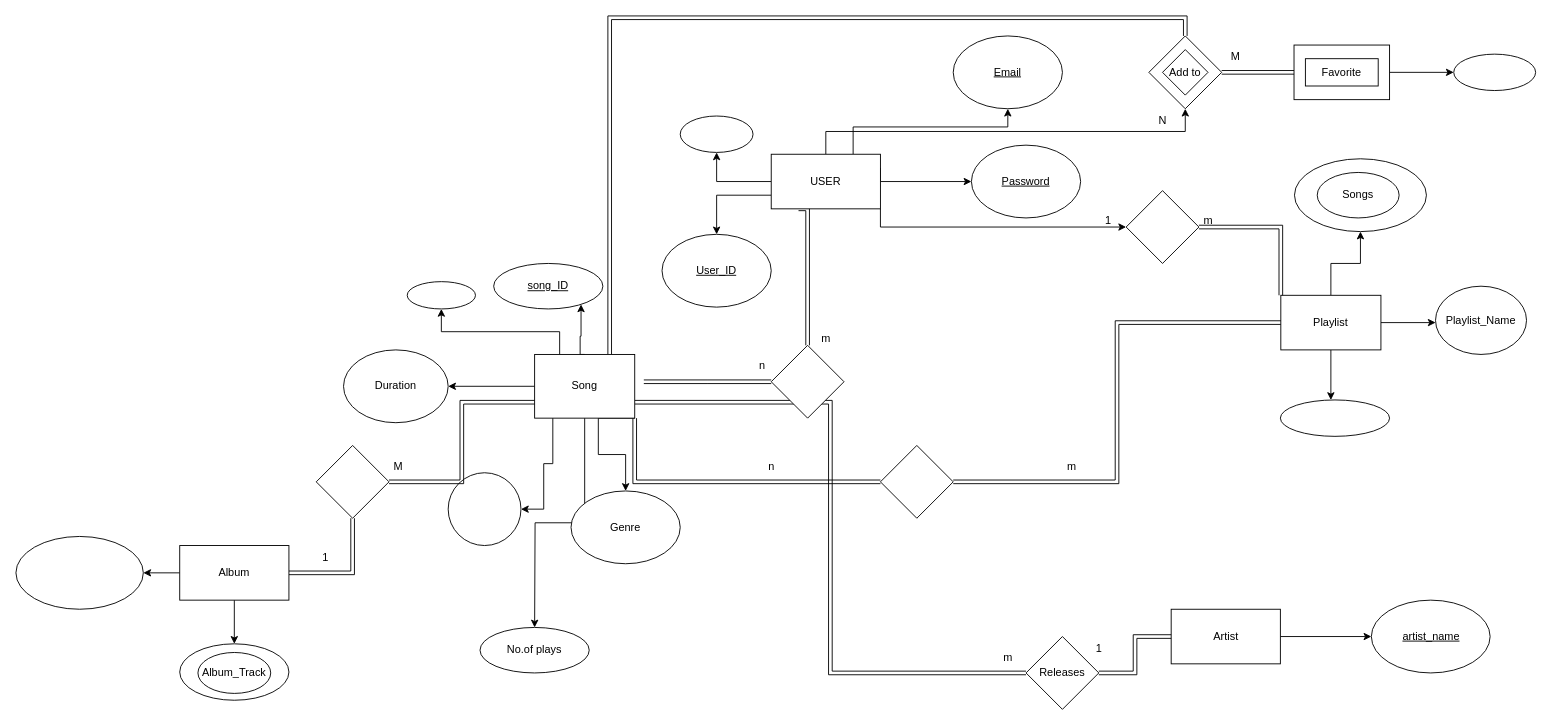
This 1552x725 diagram has some shape labels left out. The shapes that lost their labels are listed below. From the top down, each one's centre as x and y in pixels, then its label:
the point at 1494,72: Date_Added
the point at 716,133: User_Name
the point at 1162,226: Create
the point at 440,295: song_link
the point at 807,381: Listens to
the point at 1334,417: Playlist_ID
the point at 352,481: Contain
the point at 916,481: Has
the point at 484,509: Song_Name
the point at 79,572: Album_Name
